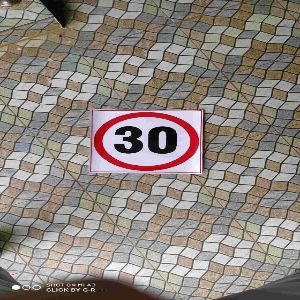speedlimit30: (91, 110, 204, 175)
